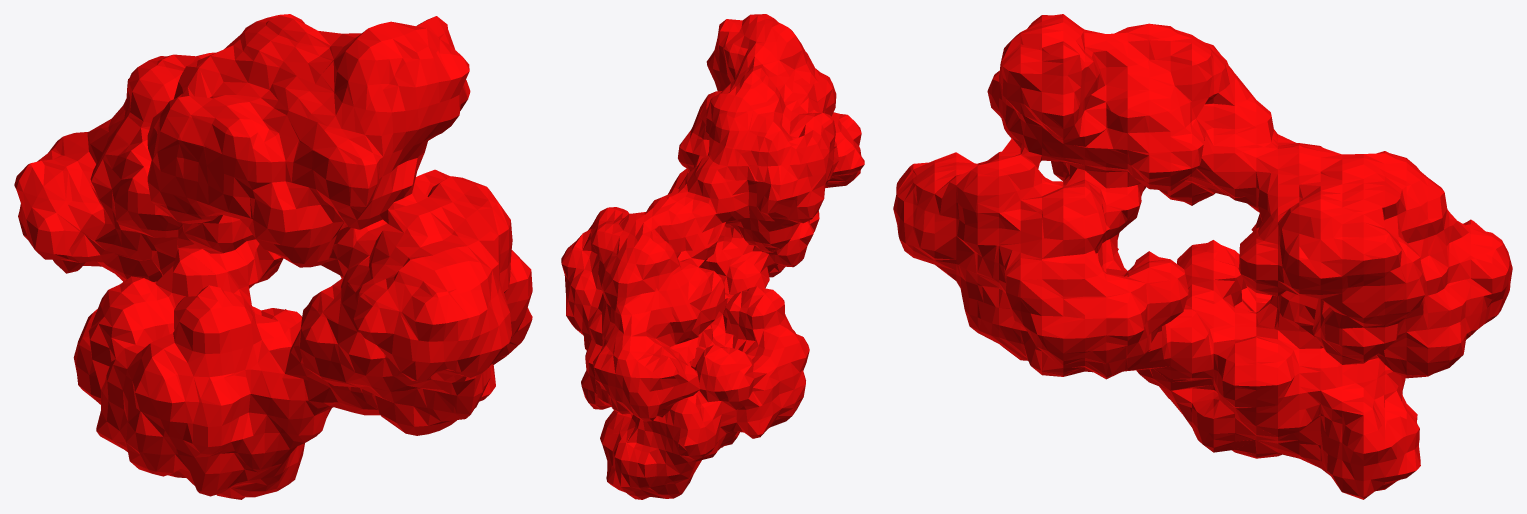
Rendered from carB_coarse.dae.
The picture shows the model from 3 angles, left to right: view 1: azimuth 30°, elevation 25°; view 2: azimuth 150°, elevation 25°; view 3: azimuth 270°, elevation 25°; orthographic projection. The views are drawn at different scales.
Visible parts, largest first — view 1: carB; view 2: carB; view 3: carB.
Part boxes in pixels (<box>): carB: <box>14,14,532,499</box>; carB: <box>561,14,864,499</box>; carB: <box>893,14,1512,499</box>.
Bounding box in the file's own units: 111 × 201 × 238.
